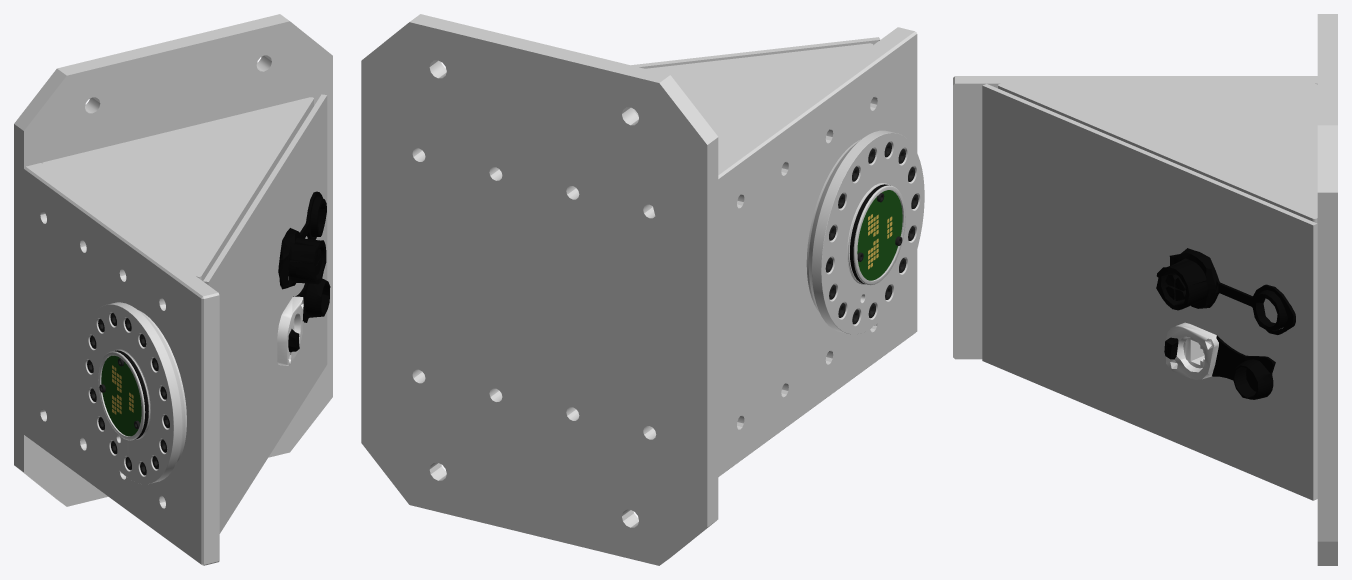
The model's file is B116-90deg.glb.
3 renders of one model, left to right at view 1: azimuth 30°, elevation 25°; view 2: azimuth 150°, elevation 25°; view 3: azimuth 270°, elevation 25°, orthographic. The views are drawn at different scales.
Visible parts, largest first — view 1: B116-90deg; view 2: B116-90deg; view 3: B116-90deg.
Part boxes in pixels (x1,y1,x2,y2): B116-90deg: (14, 14, 332, 565); B116-90deg: (361, 14, 924, 565); B116-90deg: (953, 14, 1337, 565).
Bounding box in the file's own units: 0.1947 × 0.24 × 0.19.
